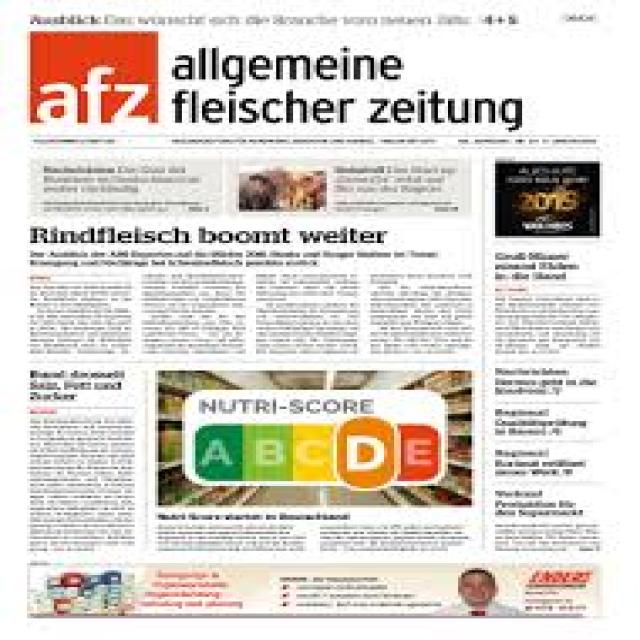paper: (20, 2, 630, 632)
